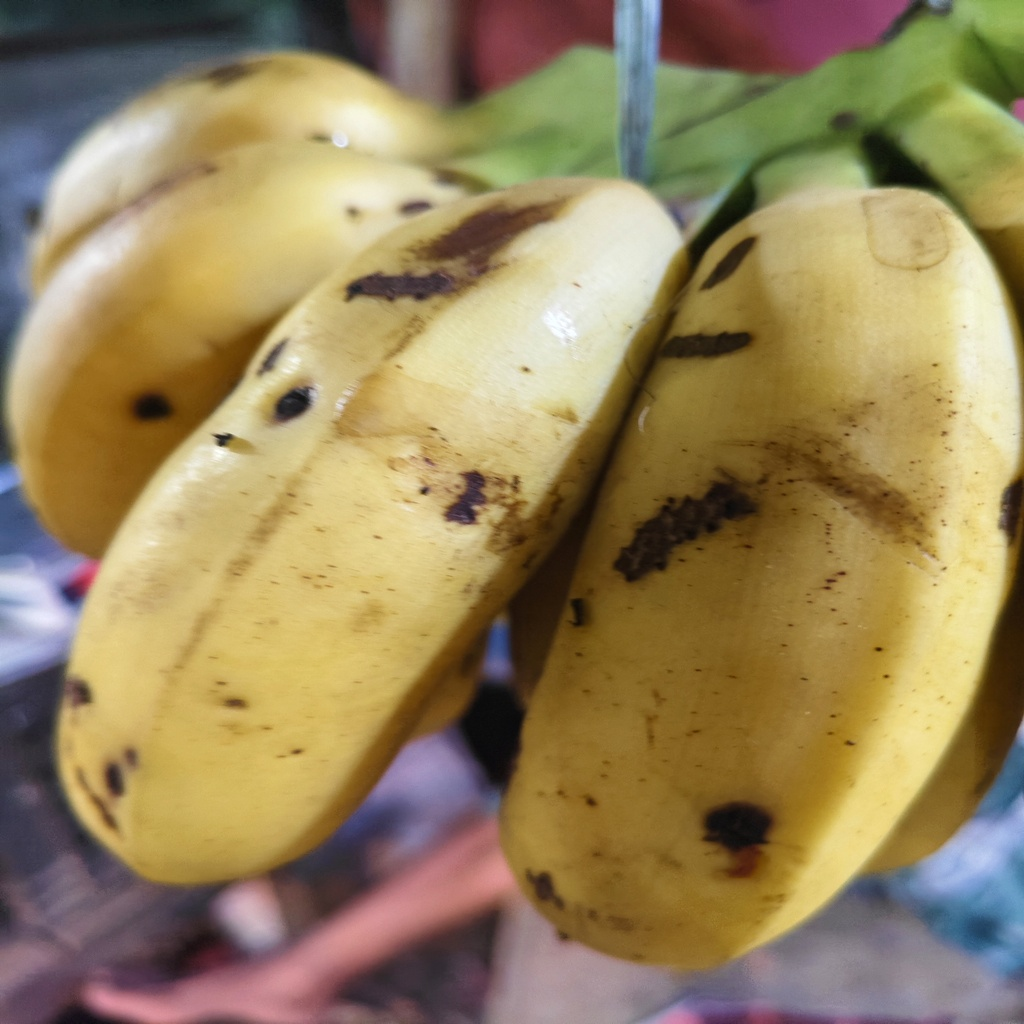unhealthy: (53, 178, 692, 880), (499, 185, 1023, 967)
